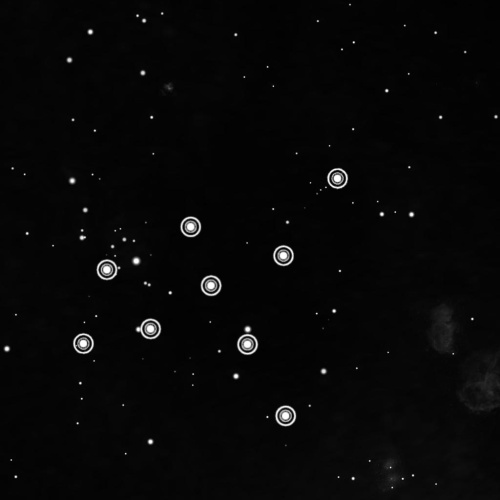cygnus: (69, 162, 352, 431)
